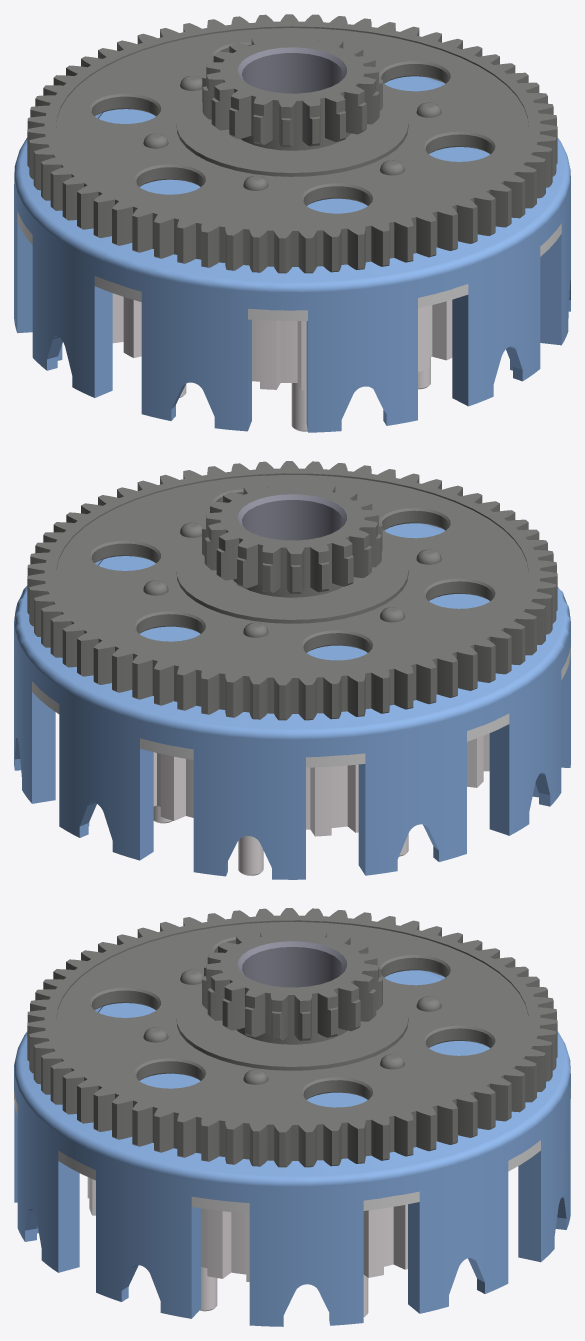
Rendered from Clutch_step5.fbx.
3 renders of one model, top to bottom at view 1: azimuth 30°, elevation 25°; view 2: azimuth 150°, elevation 25°; view 3: azimuth 270°, elevation 25°, orthographic.
Visible parts, largest first — view 1: Clutch plate432; view 2: Clutch plate432; view 3: Clutch plate432.
Part boxes in pixels (left/top/right/bottom): Clutch plate432: left=14, top=14, right=570, bottom=432; Clutch plate432: left=14, top=461, right=570, bottom=879; Clutch plate432: left=14, top=908, right=570, bottom=1326.
Bounding box in the file's own units: 13.2 × 7.9 × 13.2.
